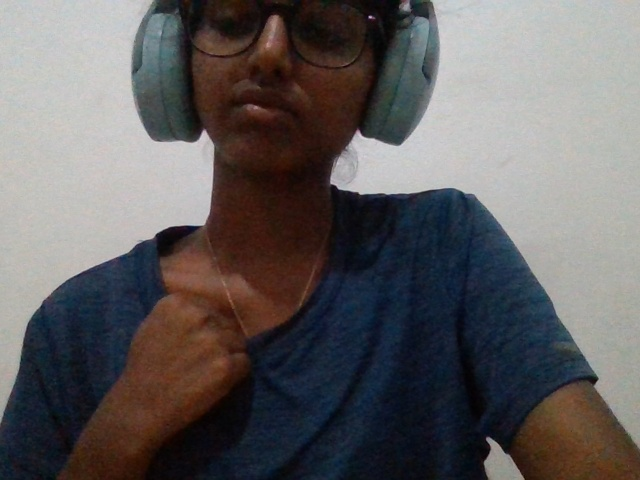Sorry: (88, 276, 279, 461)
